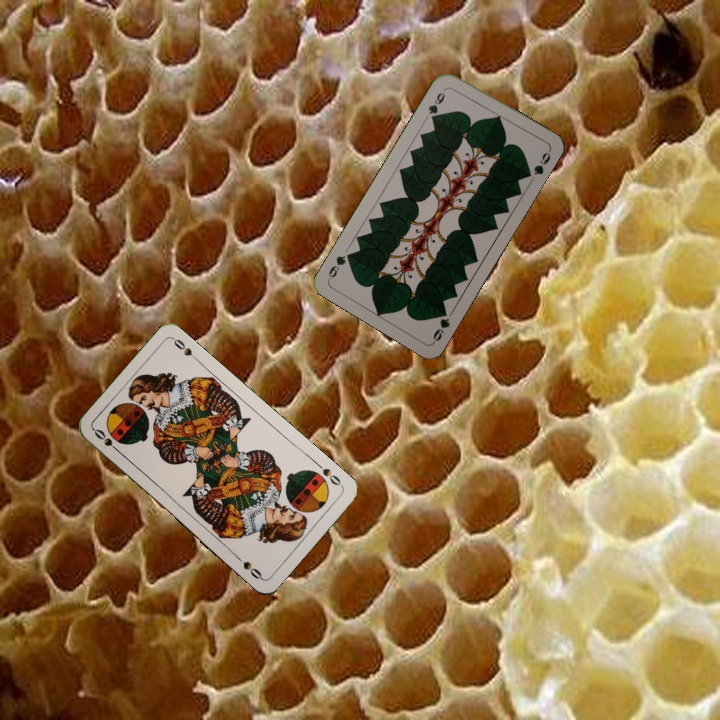G9: (424, 84, 449, 123), (429, 305, 452, 345)
SO: (90, 425, 124, 456), (312, 458, 345, 489)
